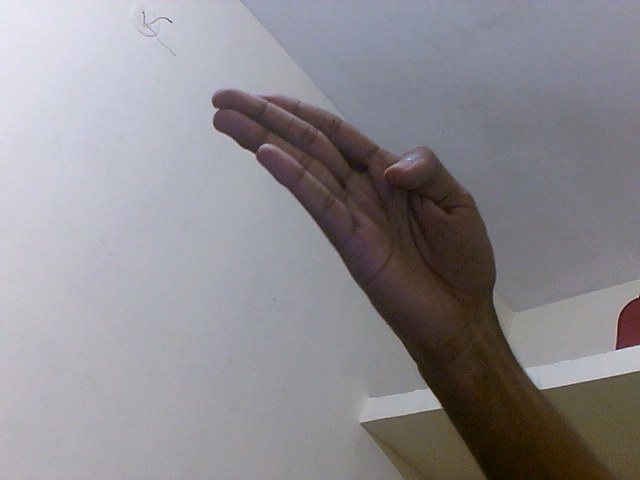hand: (211, 85, 501, 352)
